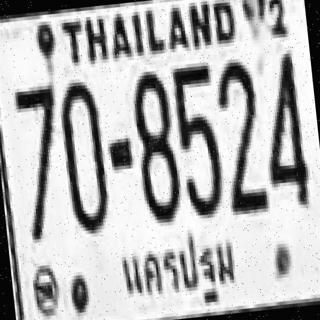N00: (56, 77, 111, 232)
N02: (213, 56, 266, 214)
N04: (256, 49, 312, 208)
N05: (171, 62, 224, 216)
N07: (12, 81, 67, 240)
N08: (129, 66, 182, 221)
P28: (113, 225, 242, 314)
